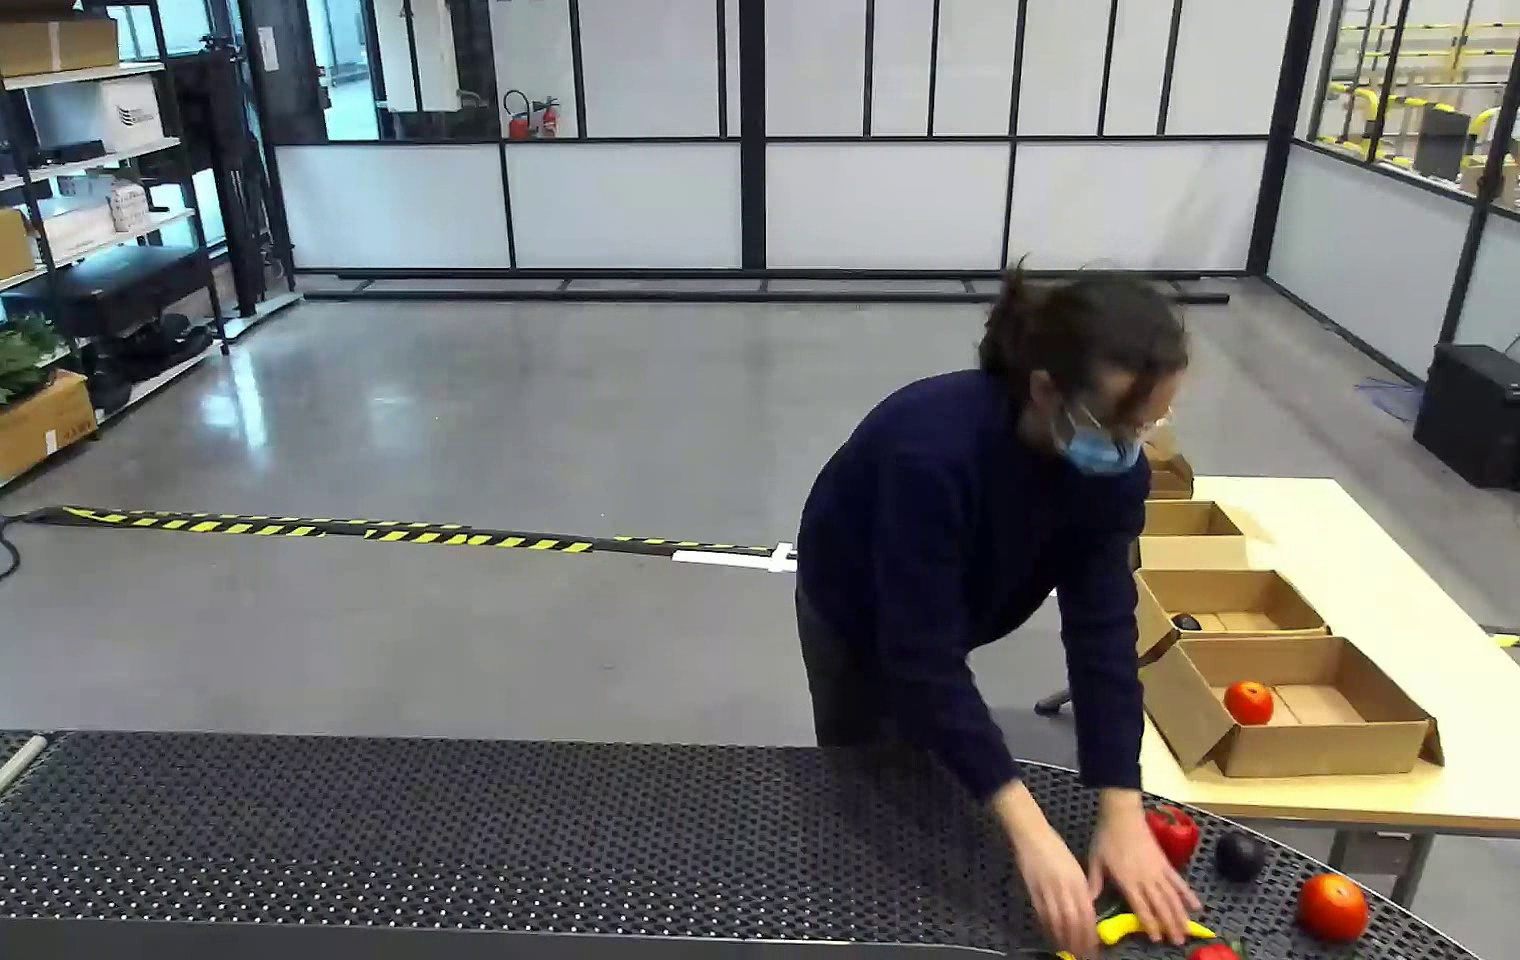Main droite: (1026, 693, 1122, 799)
